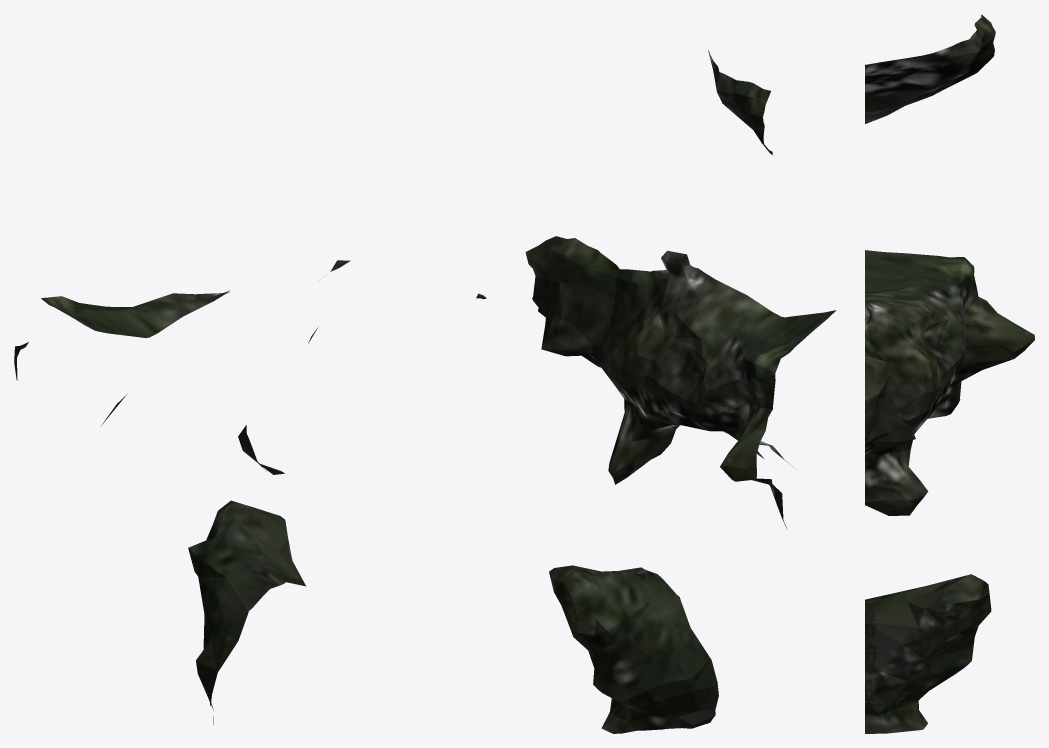
The picture shows the model from 3 angles, left to right: view 1: azimuth 30°, elevation 25°; view 2: azimuth 150°, elevation 25°; view 3: azimuth 270°, elevation 25°; orthographic projection. The views are drawn at different scales.
Size of the model in its own units: 1.78 by 3.35 by 0.8206.
Materials: 1 (1 with a texture image).
